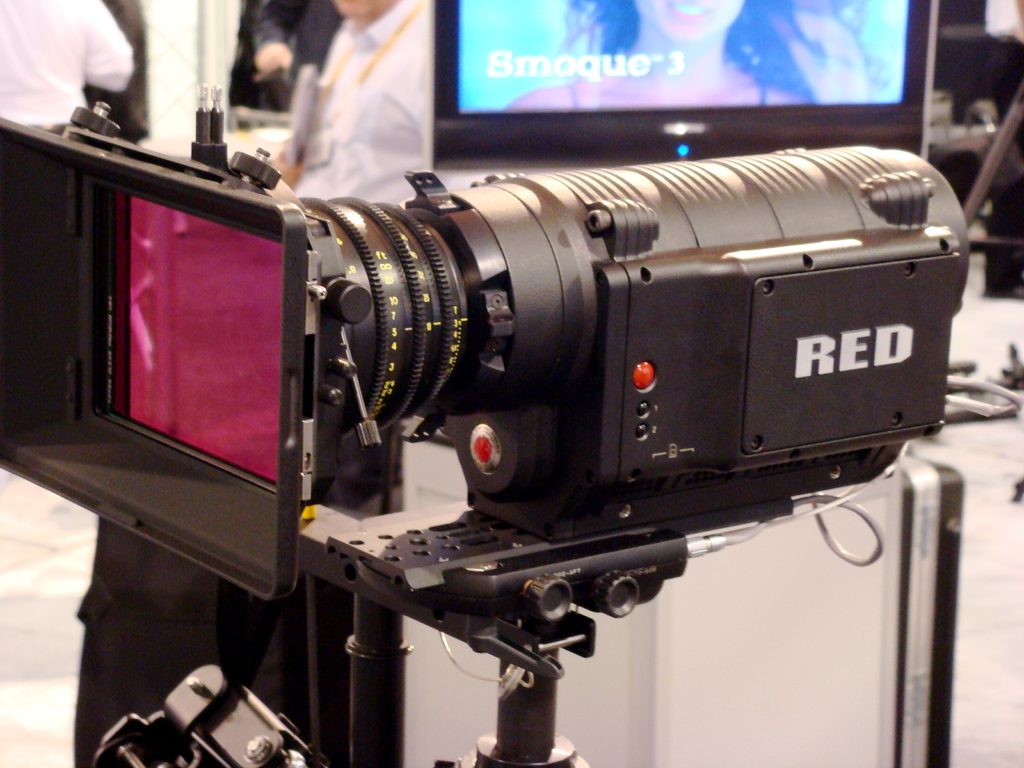face: (629, 0, 750, 42)
